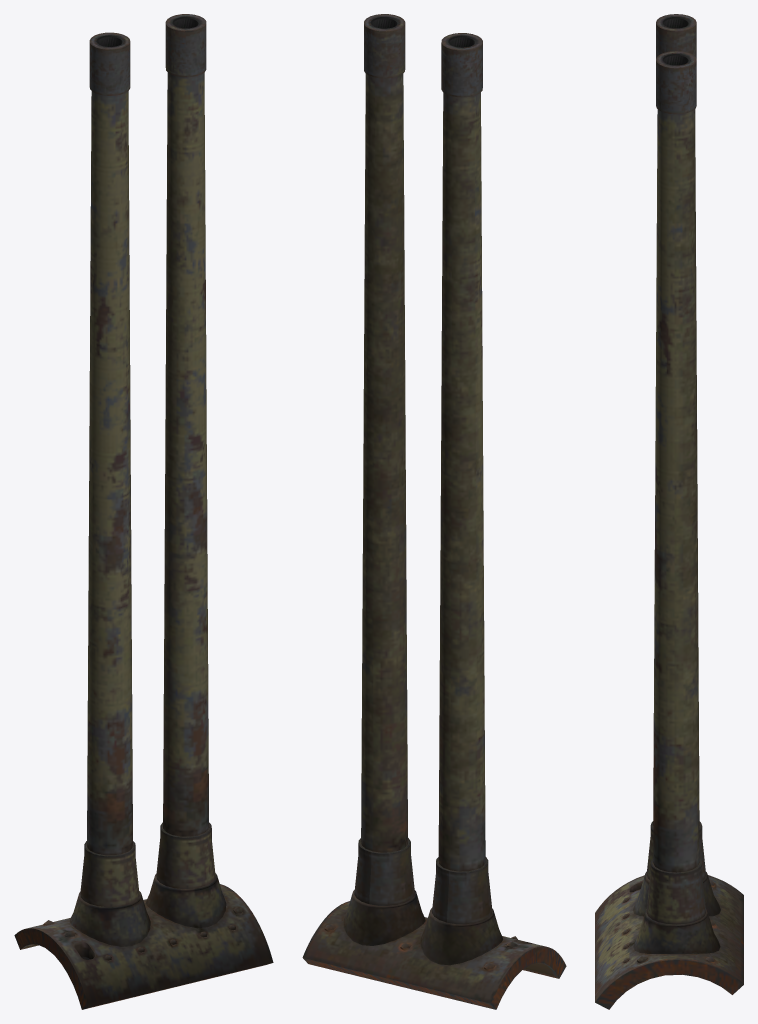
The model's file is Gun_02.glb.
The picture shows the model from 3 angles, left to right: view 1: azimuth 30°, elevation 25°; view 2: azimuth 150°, elevation 25°; view 3: azimuth 270°, elevation 25°; orthographic projection. The views are drawn at different scales.
Parts seen in each view (by area): view 1: set_0_group_0; view 2: set_0_group_0; view 3: set_0_group_0.
Boxes of the visible parts, x1,y1,x2,y2 form: set_0_group_0: (14, 14, 273, 1009); set_0_group_0: (302, 14, 566, 1009); set_0_group_0: (595, 14, 743, 1009).
Bounding box in the file's own units: 0.9258 × 4.45 × 0.6479.
Materials: 1 (1 with a texture image).
